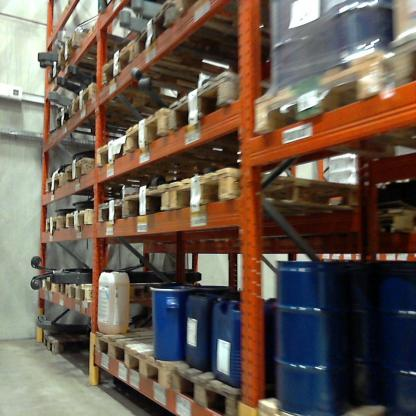pallet: (251, 46, 410, 162), (135, 5, 284, 87), (172, 162, 363, 224), (96, 39, 213, 113), (169, 66, 276, 136), (167, 365, 273, 415), (68, 75, 169, 124), (93, 328, 212, 367), (118, 343, 193, 398), (53, 102, 137, 147), (58, 28, 126, 74), (65, 285, 176, 311), (124, 103, 170, 161), (380, 25, 414, 103), (122, 182, 169, 225), (39, 60, 93, 95), (40, 328, 91, 359), (93, 134, 131, 173), (65, 158, 94, 191), (63, 202, 98, 229), (96, 196, 126, 226), (40, 171, 67, 199), (40, 268, 66, 293), (44, 207, 63, 232)
